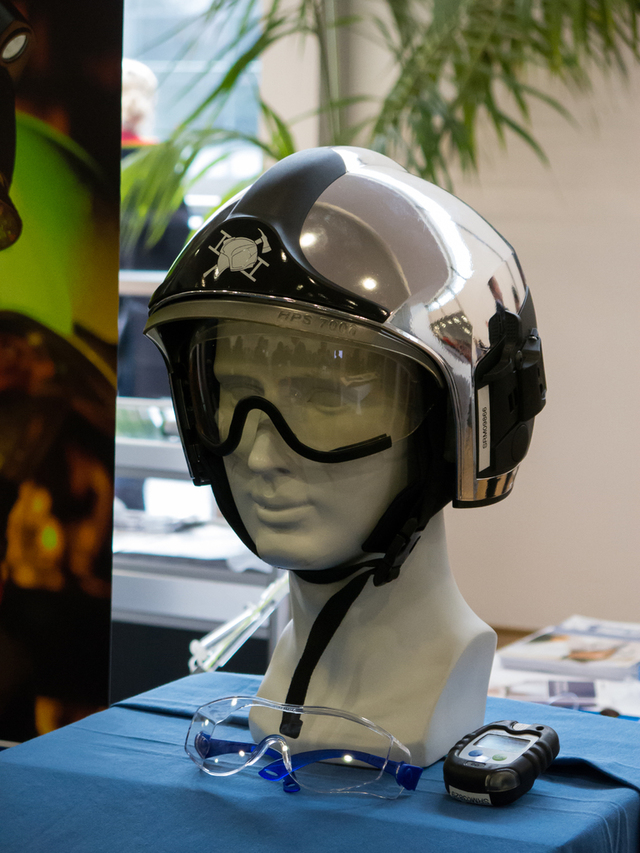helmet: (181, 163, 541, 509)
